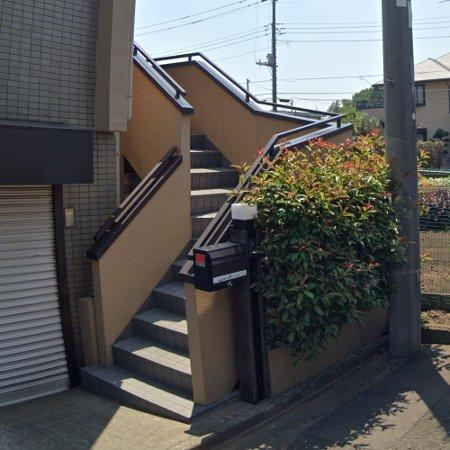stairs: (82, 250, 195, 420), (190, 134, 239, 240)
